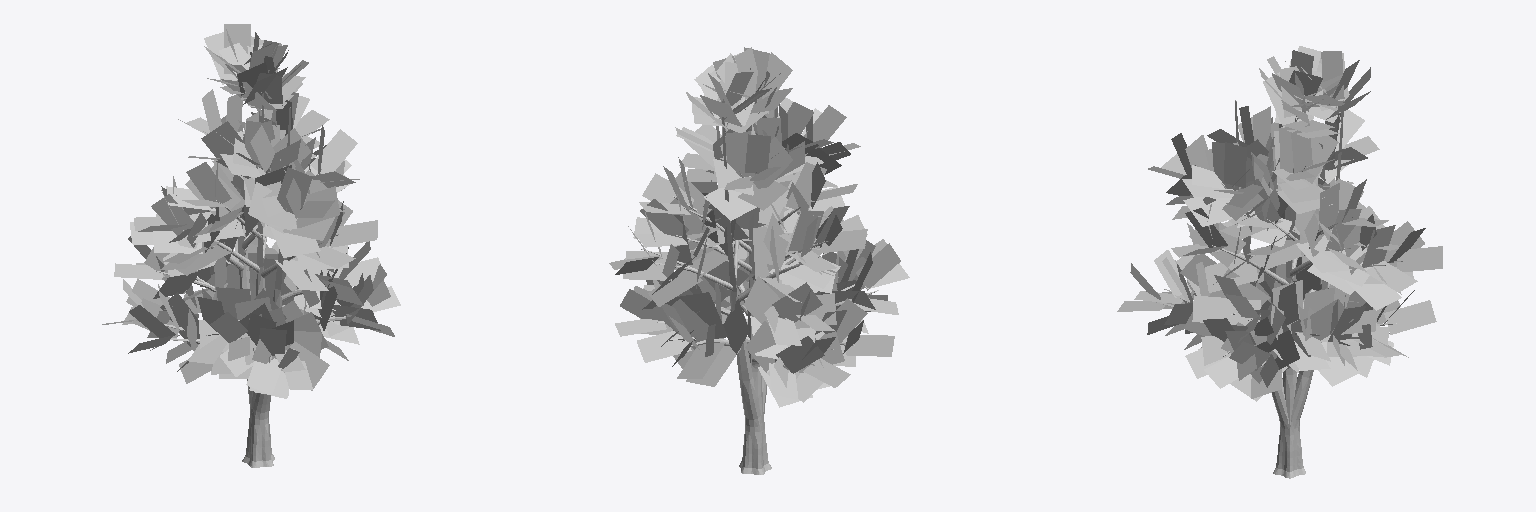
The model's file is Wood.obj.
The picture shows the model from 3 angles: view 1: azimuth 30°, elevation 25°; view 2: azimuth 150°, elevation 25°; view 3: azimuth 270°, elevation 25°; orthographic projection.
Visible parts, largest first — view 1: tree; view 2: tree; view 3: tree.
Boxes of the visible parts, x1=… form: tree: x1=102, y1=24, x2=400, y2=467; tree: x1=609, y1=47, x2=909, y2=474; tree: x1=1117, y1=46, x2=1442, y2=478.
Size of the model in its own units: 90.97 by 146 by 102.